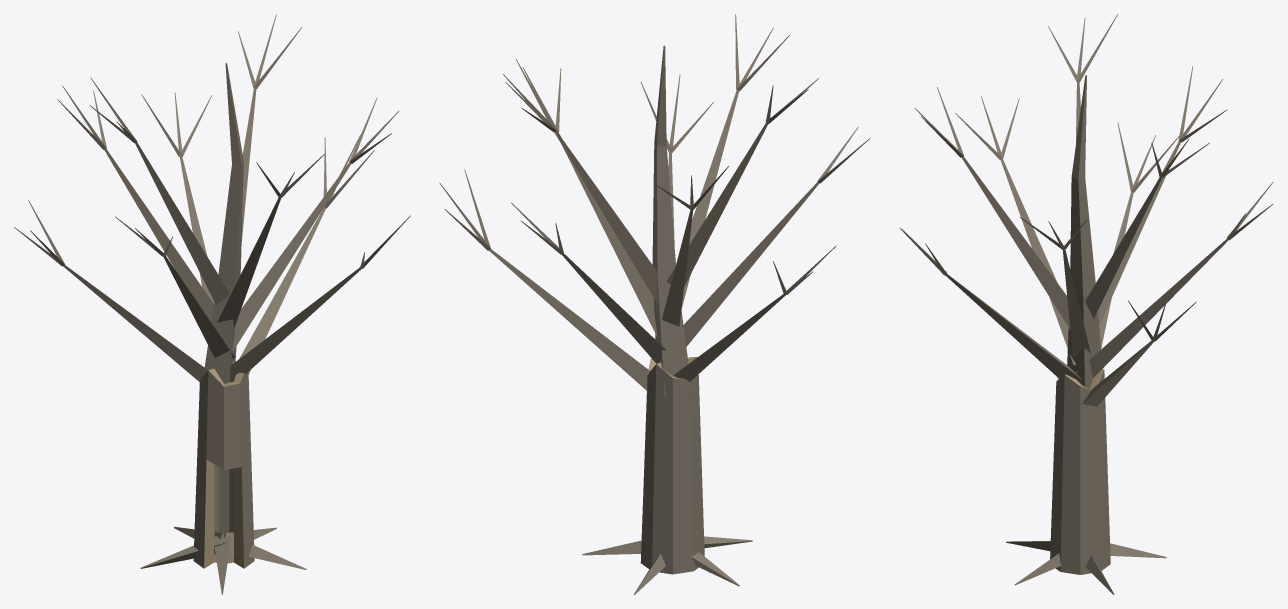
File: oak-dead-lod1.glb
3 renders of one model, left to right at view 1: azimuth 30°, elevation 25°; view 2: azimuth 150°, elevation 25°; view 3: azimuth 270°, elevation 25°, orthographic. The views are drawn at different scales.
Visible parts, largest first — view 1: tree_oak-dead_LOD1; view 2: tree_oak-dead_LOD1; view 3: tree_oak-dead_LOD1.
Part boxes in pixels (<box>): tree_oak-dead_LOD1: <box>14,14,410,594</box>; tree_oak-dead_LOD1: <box>439,14,870,594</box>; tree_oak-dead_LOD1: <box>899,14,1273,594</box>.
Bounding box in the file's own units: 8.3 × 11.08 × 7.63.
